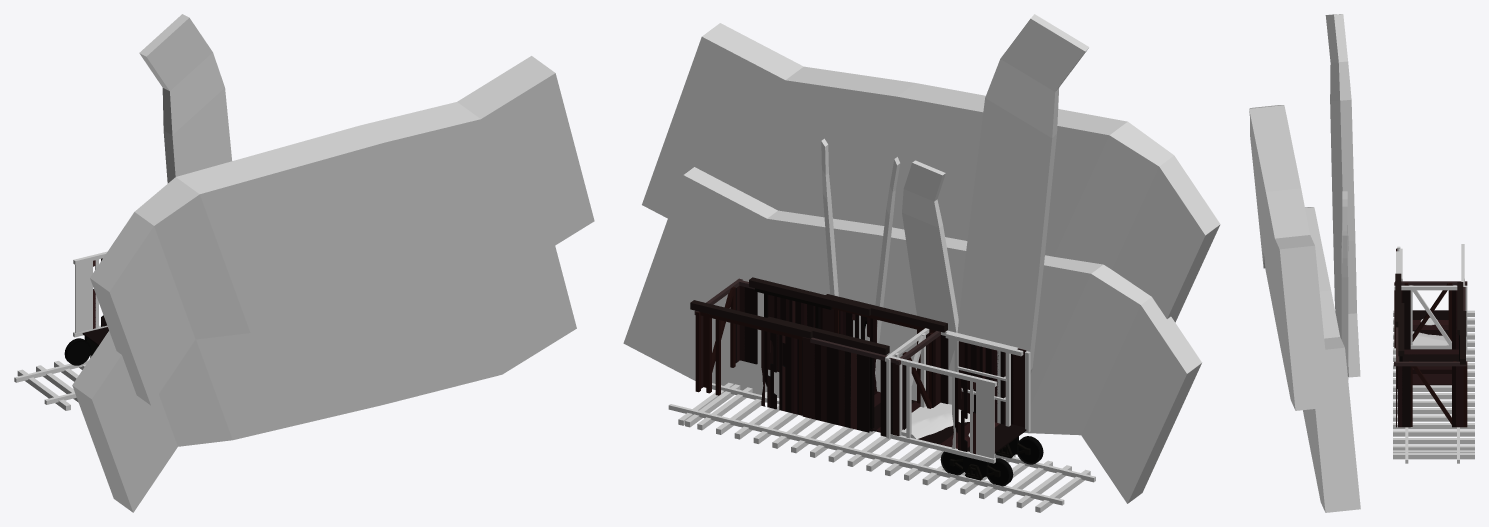
The model's file is Room5.fbx.
3 renders of one model, left to right at view 1: azimuth 30°, elevation 25°; view 2: azimuth 150°, elevation 25°; view 3: azimuth 270°, elevation 25°, orthographic. The views are drawn at different scales.
Parts seen in each view (by area): view 1: Tree4, Tree1, Tree5, Rail23, pCube69; view 2: Tree4, Tree1, Tree5, Post60, Post61, Rail23, Tree, Rail, Post16, Post21, Post35, pCube69 (+6 smaller); view 3: Tree4, Tree1, Tree5, Rail23, Post61, Post35, Post60, Tree3, Post33, pCube53, Post26, Post23 (+1 smaller).
Part boxes in pixels (bbox=[...]): Tree4: bbox=[90, 56, 594, 405]; Tree1: bbox=[72, 246, 576, 512]; Tree5: bbox=[139, 14, 231, 183]; Rail23: bbox=[17, 355, 91, 410]; pCube69: bbox=[64, 336, 98, 365]; Tree4: bbox=[642, 23, 1220, 322]; Tree1: bbox=[623, 167, 1201, 503]; Tree5: bbox=[948, 14, 1089, 404]; Post60: bbox=[765, 294, 947, 436]; Post61: bbox=[690, 277, 872, 415]; Rail23: bbox=[678, 382, 1090, 512]; Tree: bbox=[902, 160, 958, 369]; Rail: bbox=[668, 404, 1064, 505]; Post16: bbox=[958, 341, 1004, 424]; Post21: bbox=[940, 335, 1026, 427]; Post35: bbox=[869, 391, 1026, 453]; pCube69: bbox=[940, 451, 1013, 486]; Tree4: bbox=[1249, 105, 1330, 410]; Tree1: bbox=[1303, 207, 1360, 512]; Tree5: bbox=[1325, 14, 1360, 377]; Rail23: bbox=[1393, 310, 1474, 459]; Post61: bbox=[1394, 303, 1467, 427]; Post35: bbox=[1403, 310, 1458, 385]; Post60: bbox=[1394, 273, 1467, 388]; Tree3: bbox=[1341, 235, 1348, 379]; Post33: bbox=[1401, 290, 1458, 349]; pCube53: bbox=[1410, 331, 1451, 349]; Post26: bbox=[1394, 285, 1466, 290]; Post23: bbox=[1412, 290, 1451, 345].
Size of the model in its own units: 71.23 by 60.65 by 31.9.
